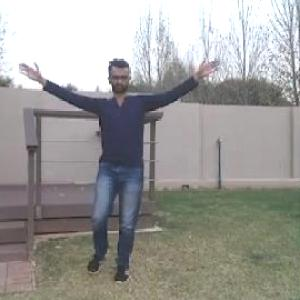takeoff: (16, 52, 222, 280)
